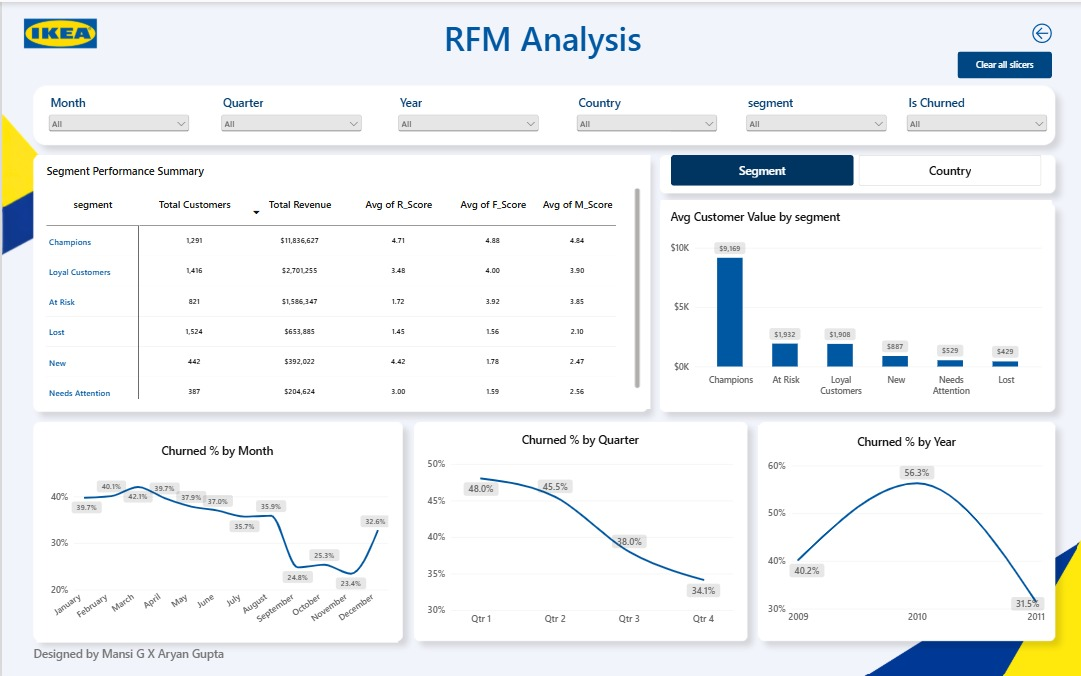

What the dashboard file says about the page in this screenshot:
{"tool":"powerbi","page":{"name":"RFM Analysis","canvas":[1750,1100],"ordinal":2},"visuals":[{"type":"slicer","fields":{"Values":["Sheet1.InvoiceDate.Variation.Date Hierarchy.Month"]},"box":[69.7,149.7,237.5,90.3],"z":0},{"type":"columnChart","fields":{"Category":["Sheet1.Country"],"Y":["Sheet1.Avg Customer Value"]},"box":[1066.8,323.2,634.3,335.4],"z":0,"group":"g2"},{"type":"lineChart","fields":{"Category":["Sheet1.InvoiceDate.Variation.Date Hierarchy.Month"],"Y":["Sheet1.Churned %"]},"box":[56.8,699.5,585.9,338.1],"z":0,"group":"g1"},{"type":"slicer","fields":{"Values":["Sheet1.InvoiceDate.Variation.Date Hierarchy.Year"]},"box":[637.5,149.7,237.5,90.3],"z":1000},{"type":"pivotTable","title":"Country Performance Summary","fields":{"Rows":["Sheet1.Country"],"Values":["Sheet1.Total Customers","Sheet1.Total Revenue","Avg(Sheet1.R_Score)","Avg(Sheet1.F_Score)","Avg(Sheet1.M_Score)"]},"box":[59.4,250.4,989.1,410.7],"z":1000,"group":"g2"},{"type":"lineChart","fields":{"Category":["Sheet1.InvoiceMonth.Variation.Date Hierarchy.Quarter"],"Y":["Sheet1.Churned %"]},"box":[674.6,682.5,527.3,347.5],"z":1000,"group":"g1"},{"type":"slicer","fields":{"Values":["Sheet1.Country"]},"box":[926.6,149.7,237.5,90.3],"z":2000},{"type":"lineChart","fields":{"Category":["Sheet1.InvoiceMonth.Variation.Date Hierarchy.Year"],"Y":["Sheet1.Churned %"]},"box":[1226.2,685.1,481.2,342.6],"z":2000,"group":"g1"},{"type":"slicer","fields":{"Values":["Sheet1.segment"]},"box":[1200.2,149.7,237.5,90.3],"z":3000},{"type":"slicer","fields":{"Values":["Sheet1.IsChurned"]},"box":[1460.9,149.7,237.5,90.3],"z":4000},{"type":"slicer","fields":{"Values":["Sheet1.InvoiceDate.Variation.Date Hierarchy.Quarter"]},"box":[351,149.7,237.5,90.3],"z":5000},{"type":"group","id":"g1","title":"Customer","box":[56.8,682.5,1650.6,355.2],"z":6000},{"type":"bookmarkNavigator","box":[1083.7,247.2,600,50],"z":8000},{"type":"textbox","box":[51,1042.5,352.4,58.3],"z":9000},{"type":"image","box":[0,0,189.5,102.1],"z":10000},{"type":"textbox","box":[582.2,21.9,585.7,80.2],"z":11000},{"type":"actionButton","box":[1635.5,21.9,99.6,58.3],"z":12000},{"type":"actionButton","box":[1548,80.2,153.1,43.7],"z":13000},{"type":"group","id":"g2","title":"Country","box":[59.4,250.4,1641.7,410.7],"z":14000}]}

Visuals, with their boxes in screenshot pixels (x1, y1, x2, y2), scaled from the page's 1750x1100 canvas onto the 1081x676 screenshot:
slicer - Sheet1.InvoiceDate.Variation.Date Hierarchy.Month: rect(43, 92, 190, 147)
columnChart - Sheet1.Country x Sheet1.Avg Customer Value: rect(659, 199, 1051, 405)
lineChart - Sheet1.InvoiceDate.Variation.Date Hierarchy.Month x Sheet1.Churned %: rect(35, 430, 397, 638)
slicer - Sheet1.InvoiceDate.Variation.Date Hierarchy.Year: rect(394, 92, 540, 147)
"Country Performance Summary" pivotTable: rect(37, 154, 648, 406)
lineChart - Sheet1.InvoiceMonth.Variation.Date Hierarchy.Quarter x Sheet1.Churned %: rect(417, 419, 742, 633)
slicer - Sheet1.Country: rect(572, 92, 719, 147)
lineChart - Sheet1.InvoiceMonth.Variation.Date Hierarchy.Year x Sheet1.Churned %: rect(757, 421, 1055, 632)
slicer - Sheet1.segment: rect(741, 92, 888, 147)
slicer - Sheet1.IsChurned: rect(902, 92, 1049, 147)
slicer - Sheet1.InvoiceDate.Variation.Date Hierarchy.Quarter: rect(217, 92, 364, 147)
"Customer" group: rect(35, 419, 1055, 638)
bookmarkNavigator: rect(669, 152, 1040, 183)
textbox: rect(32, 641, 249, 675)
image: rect(0, 0, 117, 63)
textbox: rect(360, 13, 721, 63)
actionButton: rect(1010, 13, 1072, 49)
actionButton: rect(956, 49, 1051, 76)
"Country" group: rect(37, 154, 1051, 406)
